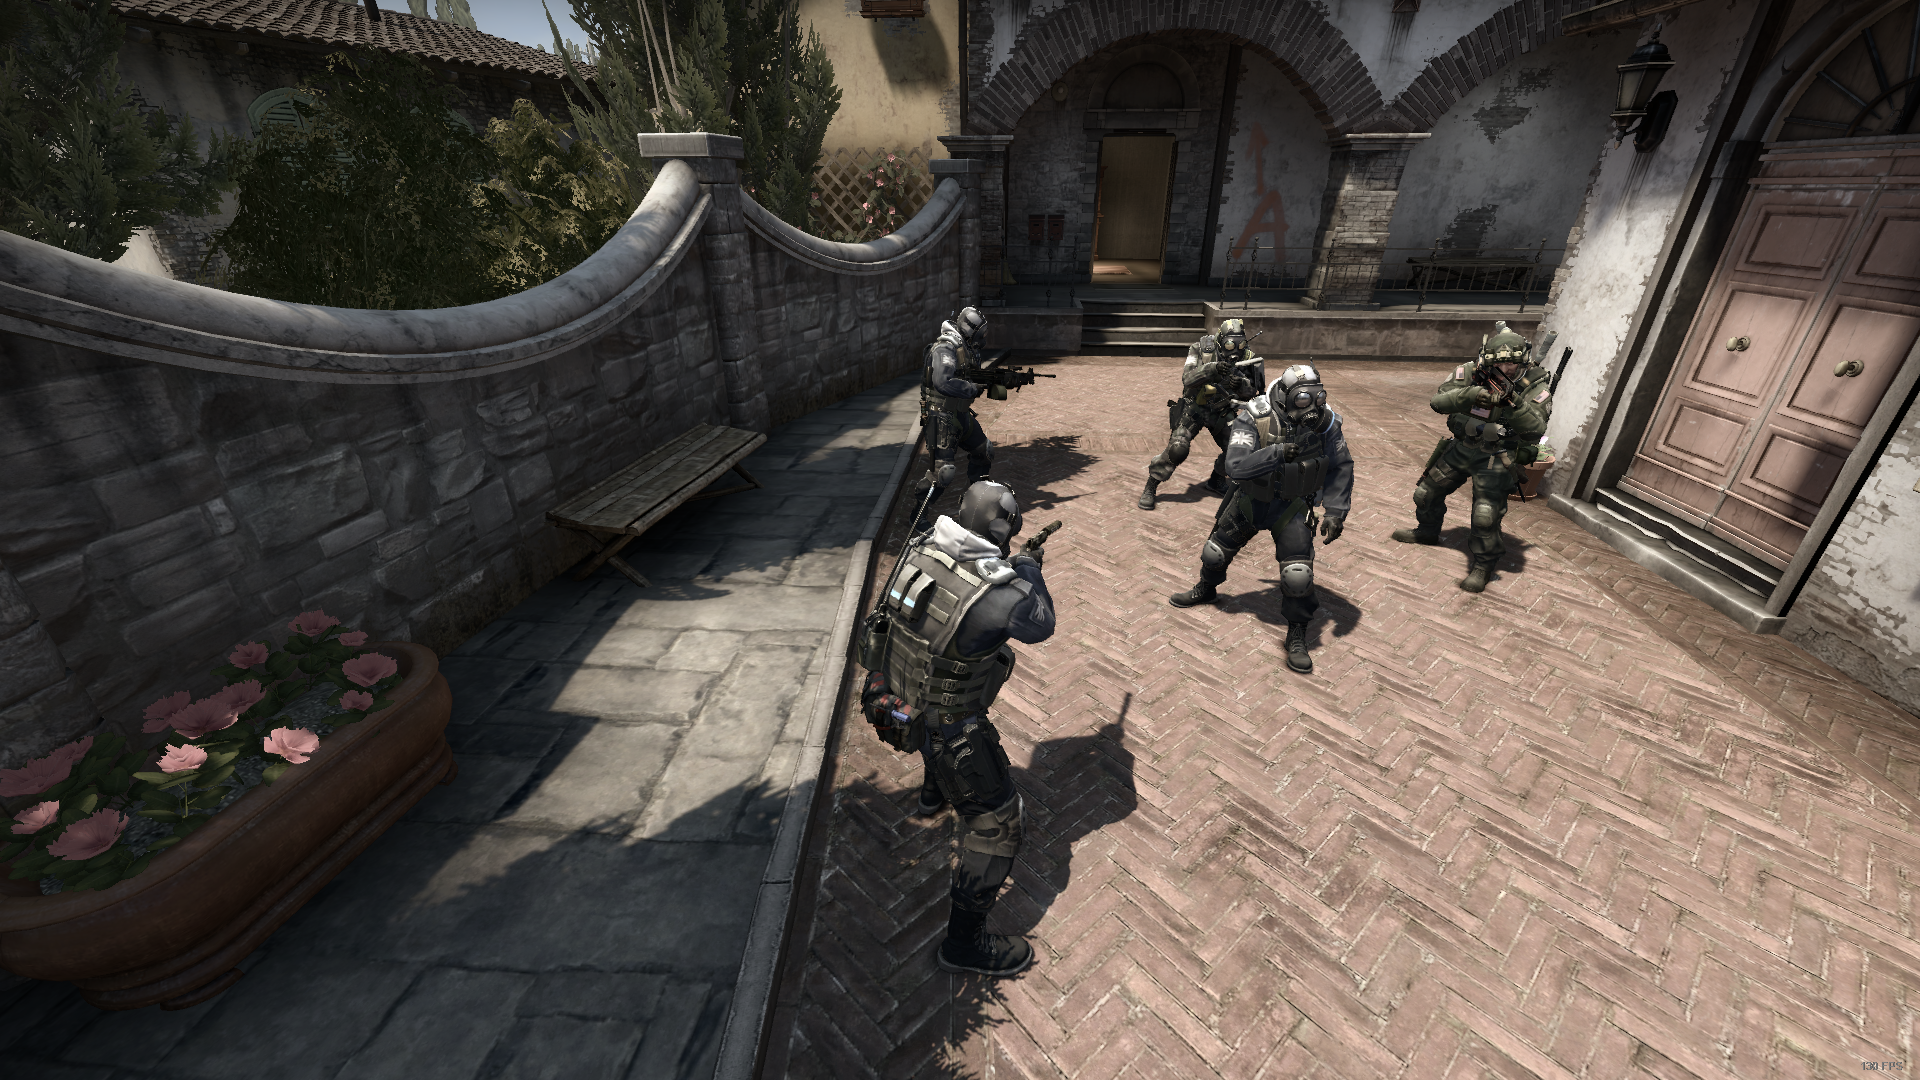ct: (861, 477, 1063, 972), (1168, 363, 1357, 673), (1139, 320, 1269, 521), (914, 306, 1007, 500)
